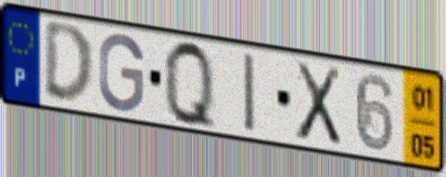6: (353, 71, 396, 155)
D: (41, 22, 97, 109)
G: (96, 31, 147, 115)
I: (241, 49, 259, 137)
Q: (161, 35, 219, 135)
X: (292, 58, 343, 149)
